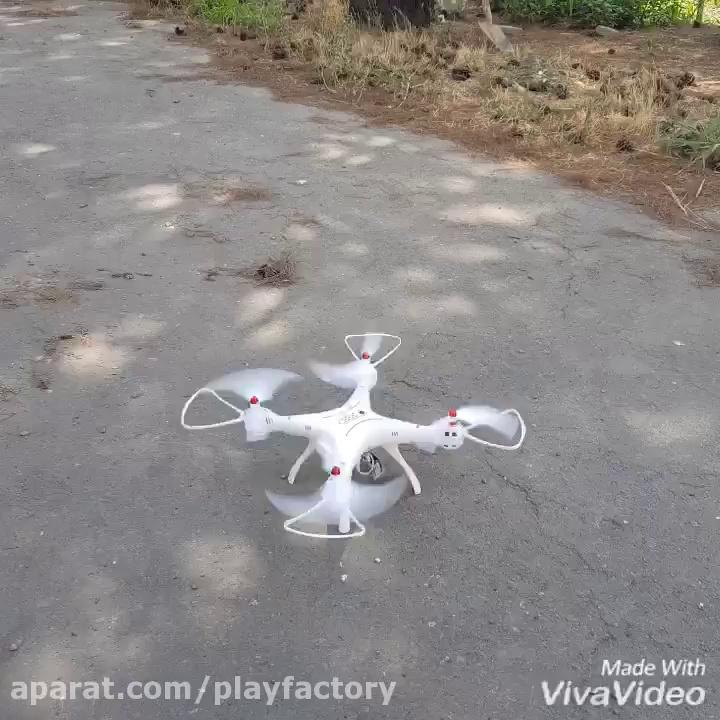drone: (176, 328, 528, 544)
